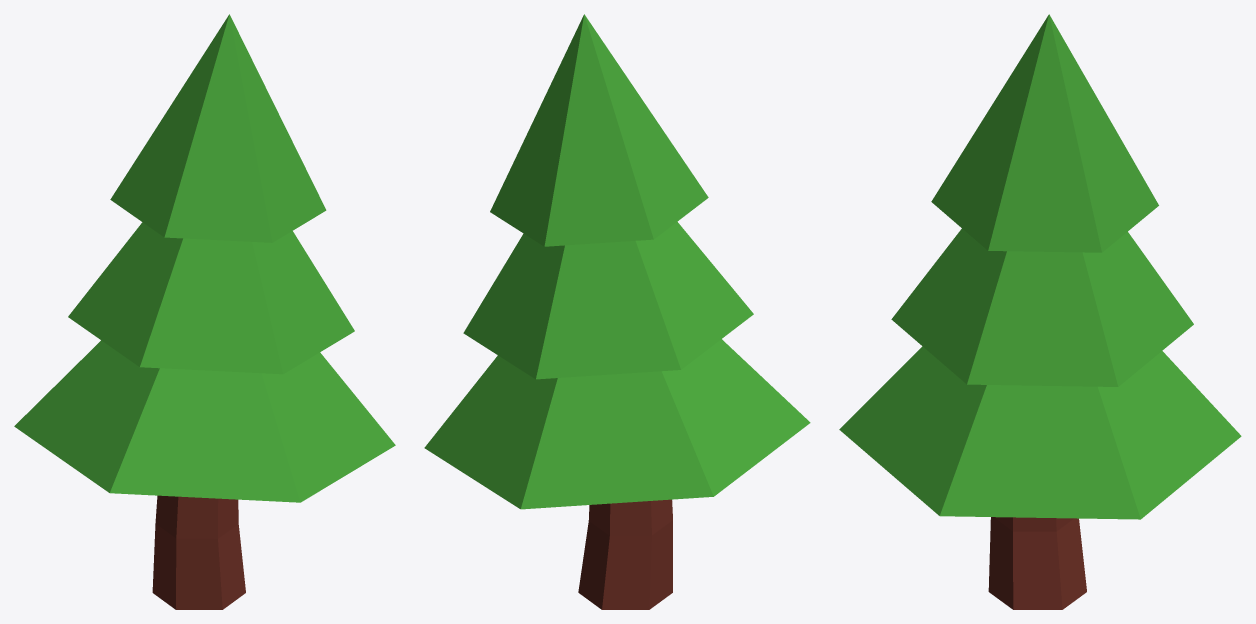
File: Pine3.fbx
3 views of the same model, side by side, from view 1: azimuth 30°, elevation 25°; view 2: azimuth 150°, elevation 25°; view 3: azimuth 270°, elevation 25° (orthographic). The views are drawn at different scales.
Visible parts, largest first — view 1: Pine3; view 2: Pine3; view 3: Pine3.
Boxes of the visible parts, bbox=[...] form: Pine3: bbox=[14, 14, 395, 609]; Pine3: bbox=[424, 14, 810, 609]; Pine3: bbox=[839, 14, 1241, 609].
Size of the model in its own units: 800 by 1513 by 926.
